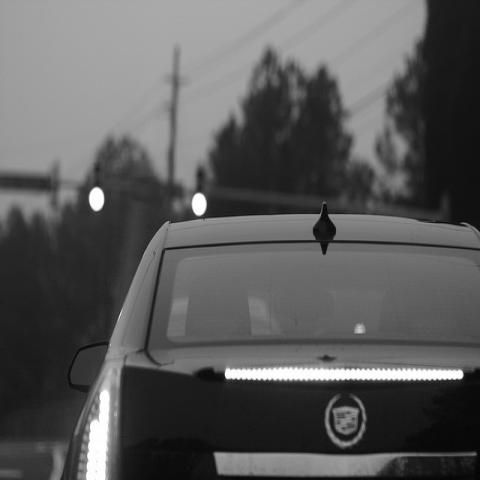car: (57, 212, 479, 470)
